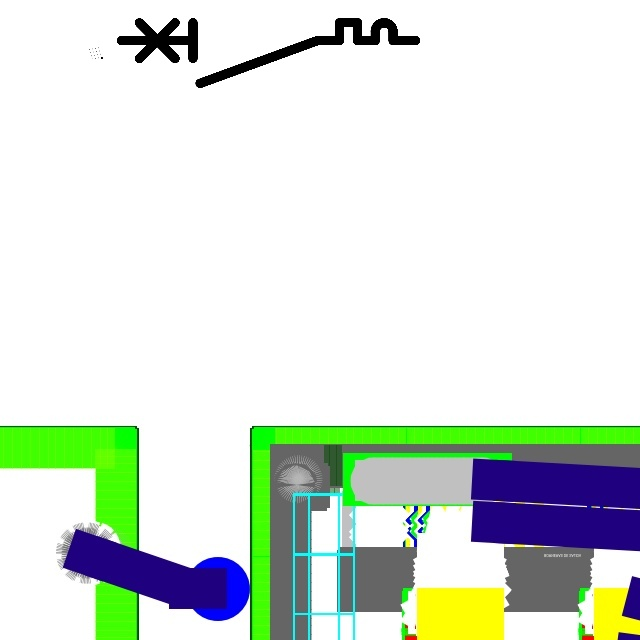interruptor_termomagnetico: (114, 15, 423, 90)
